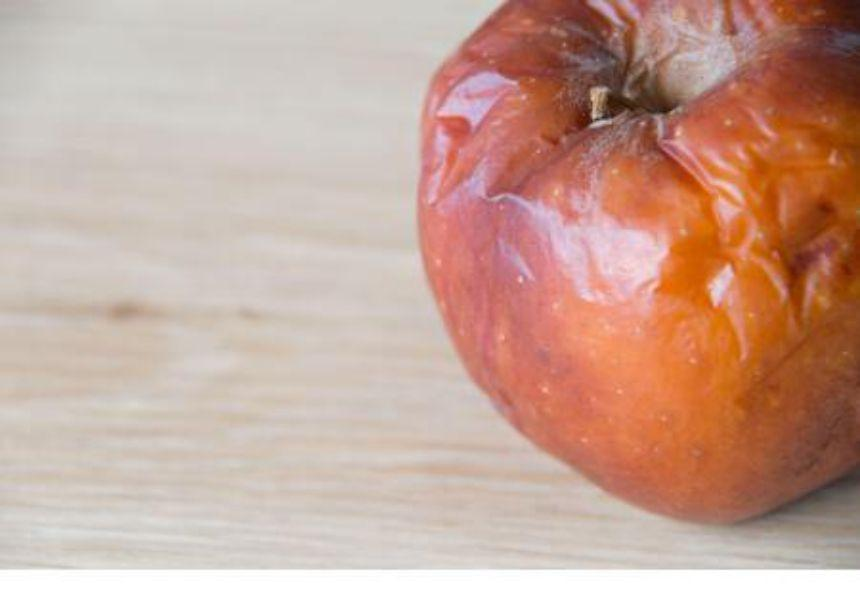ROT: (405, 1, 860, 555)
